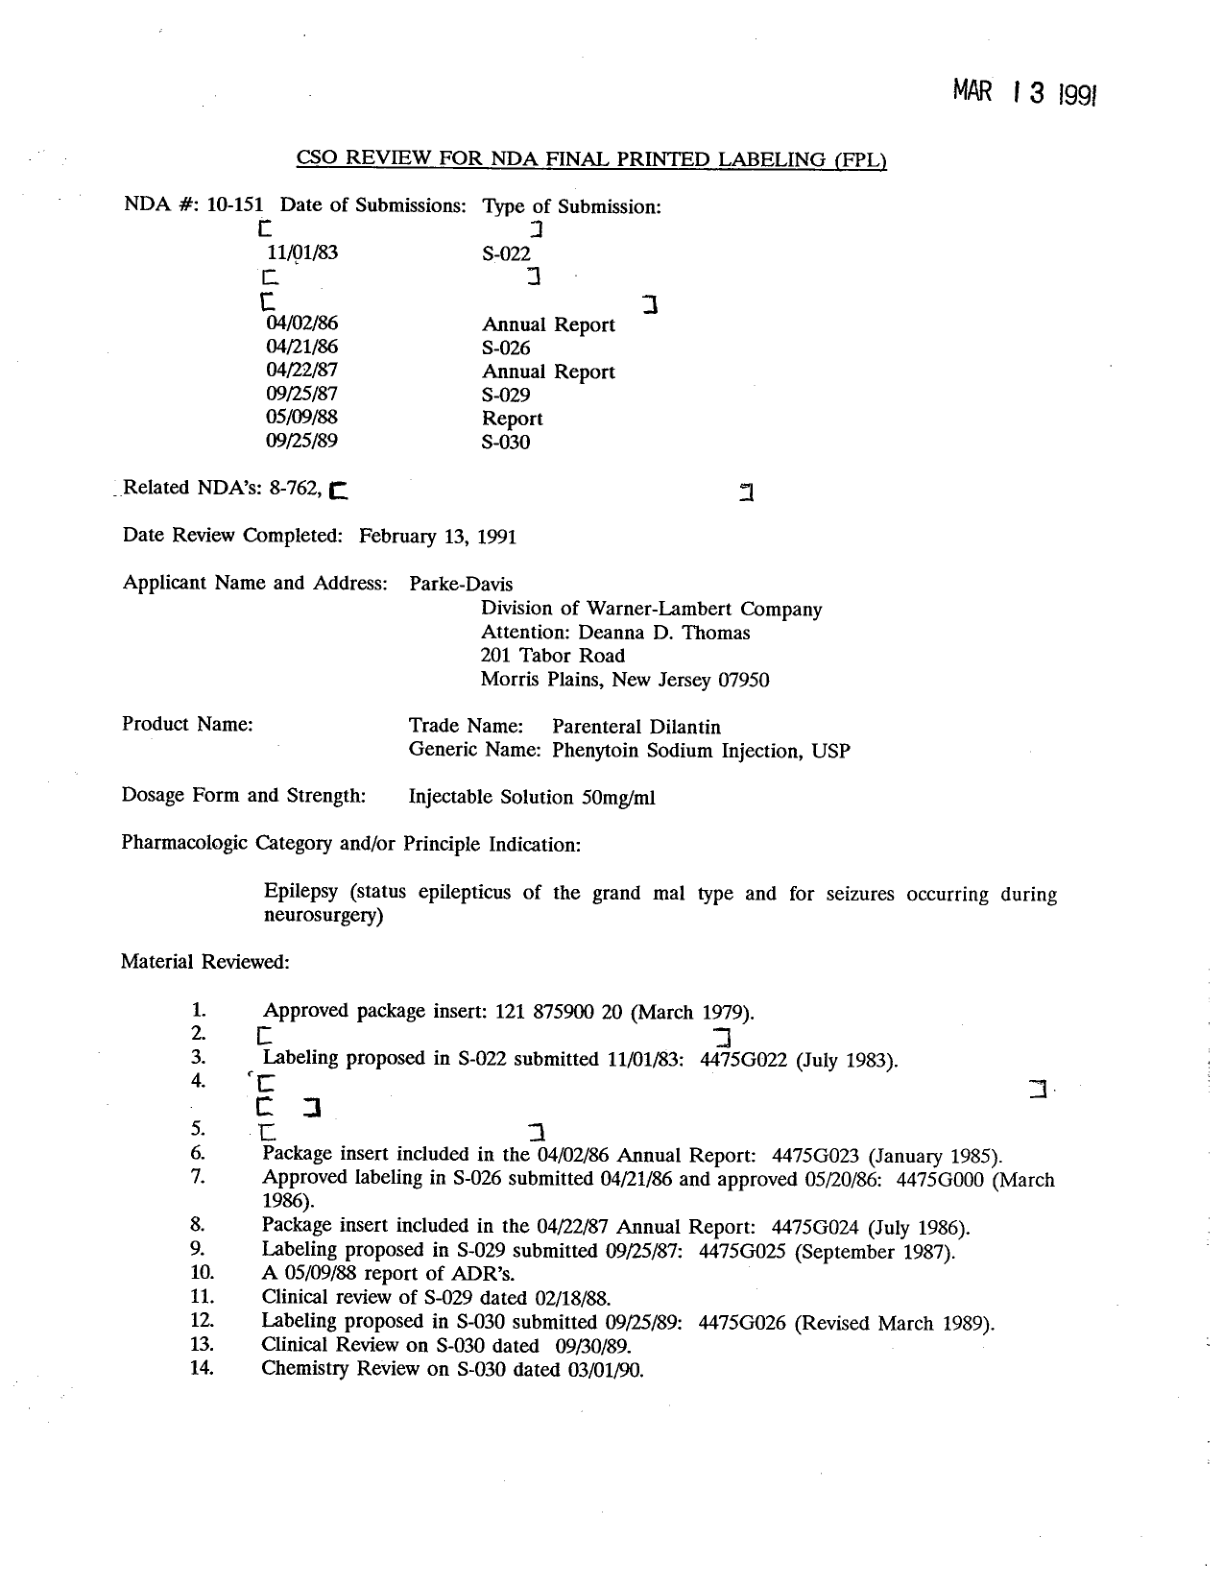nolines: (256, 216, 663, 454)
